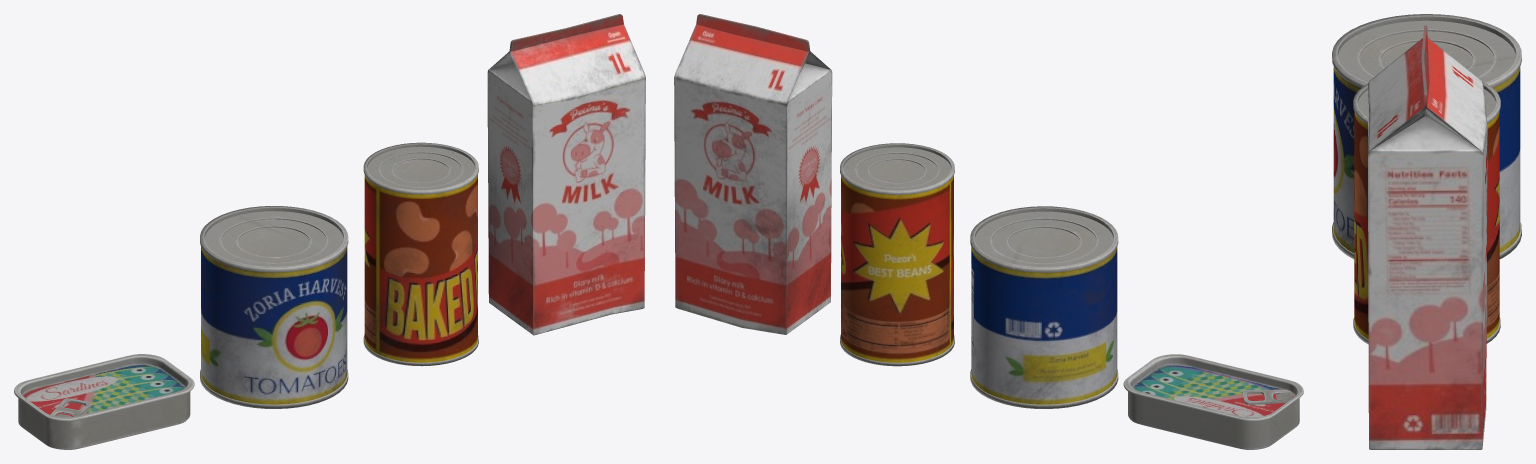
File: long_life_food.glb
3 renders of one model, left to right at view 1: azimuth 30°, elevation 25°; view 2: azimuth 150°, elevation 25°; view 3: azimuth 270°, elevation 25°, orthographic. The views are drawn at different scales.
Visible parts, largest first — view 1: long_life_food_milk, long_life_food_tomatoes, long_life_food_beans, long_life_food_sardines; view 2: long_life_food_milk, long_life_food_tomatoes, long_life_food_beans, long_life_food_sardines; view 3: long_life_food_milk, long_life_food_tomatoes, long_life_food_beans.
Boxes of the visible parts, x1,y1,x2,y2 form: long_life_food_milk: [487, 14, 645, 335]; long_life_food_tomatoes: [200, 206, 348, 408]; long_life_food_beans: [363, 142, 478, 366]; long_life_food_sardines: [14, 354, 194, 449]; long_life_food_milk: [674, 14, 832, 334]; long_life_food_tomatoes: [970, 206, 1118, 408]; long_life_food_beans: [840, 143, 954, 366]; long_life_food_sardines: [1123, 354, 1303, 449]; long_life_food_milk: [1368, 25, 1487, 449]; long_life_food_tomatoes: [1332, 14, 1521, 259]; long_life_food_beans: [1353, 81, 1500, 344].
Size of the model in its own units: 0.5238 by 0.2376 by 0.1136.
Materials: 1 (1 with a texture image).
